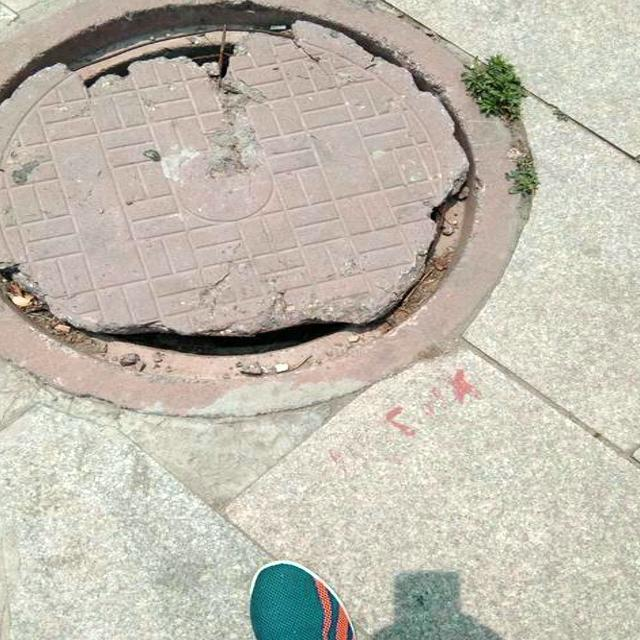broke: (0, 0, 541, 423)
